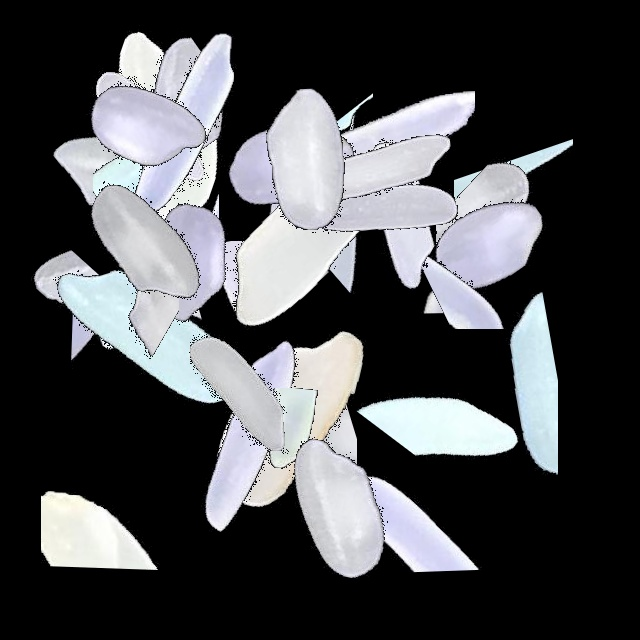Broken: (189, 270, 363, 520), (65, 0, 233, 250), (309, 52, 475, 302), (25, 10, 185, 260), (56, 127, 211, 377), (300, 82, 449, 332), (335, 323, 585, 471), (346, 375, 489, 625), (436, 121, 576, 371), (420, 267, 558, 517), (0, 220, 250, 347), (95, 112, 219, 362), (364, 208, 614, 329), (41, 383, 161, 633), (454, 97, 573, 347), (0, 194, 118, 444), (62, 169, 179, 419), (243, 322, 357, 572), (111, 241, 361, 354), (124, 218, 234, 468), (166, 388, 416, 497), (0, 283, 250, 391), (93, 53, 199, 303), (283, 46, 533, 147), (144, 389, 394, 487), (9, 282, 259, 380), (402, 140, 498, 390), (136, 0, 223, 250), (190, 314, 270, 564), (180, 0, 259, 250), (295, 48, 373, 298), (296, 363, 371, 613)
Full: (37, 3, 287, 253), (188, 73, 438, 323), (365, 116, 615, 366), (167, 37, 417, 287), (176, 118, 426, 368), (23, 0, 273, 250), (21, 213, 271, 463), (162, 290, 412, 540), (272, 87, 522, 337), (65, 137, 315, 387), (259, 85, 509, 335), (254, 41, 504, 291), (127, 309, 377, 559), (181, 35, 431, 285), (57, 0, 307, 250), (19, 0, 269, 250), (214, 386, 464, 636), (22, 119, 272, 369)
